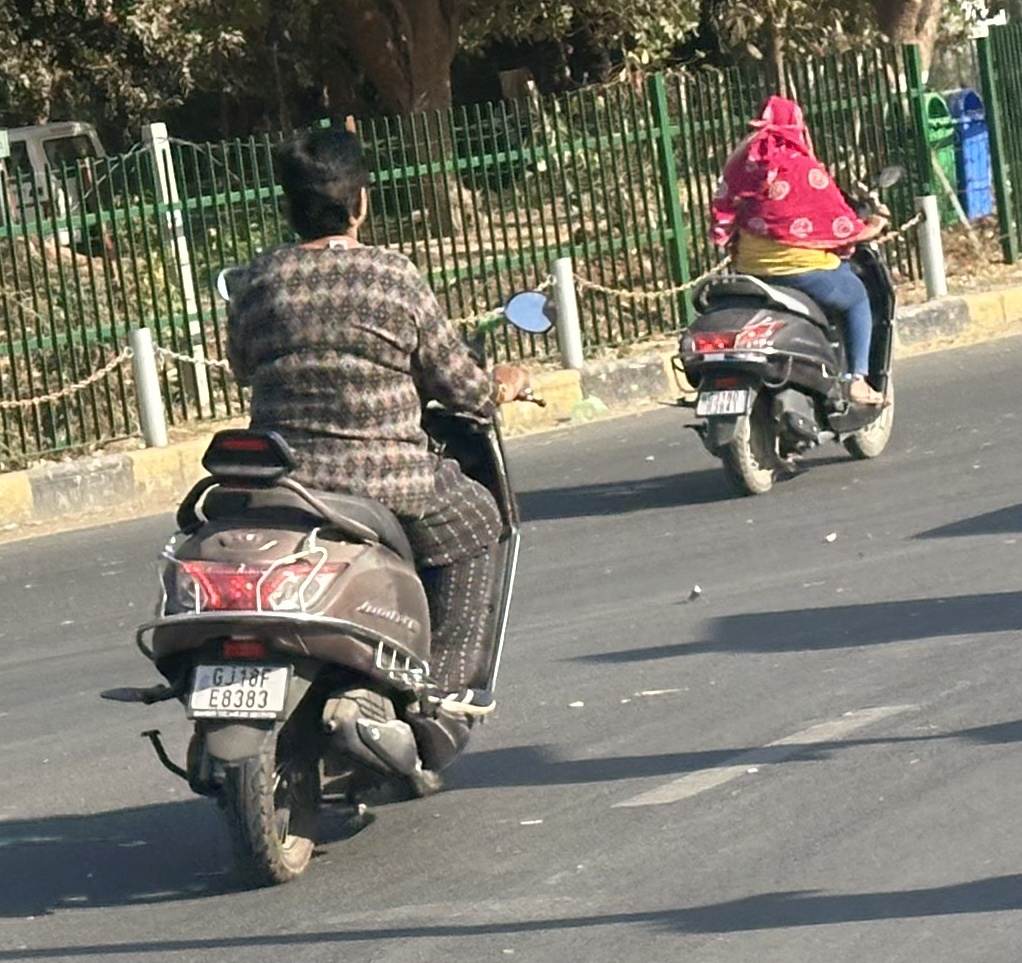BikeWithRider: (95, 113, 563, 893), (658, 84, 913, 501)
NoHelmet: (260, 120, 388, 260), (742, 87, 821, 161)
